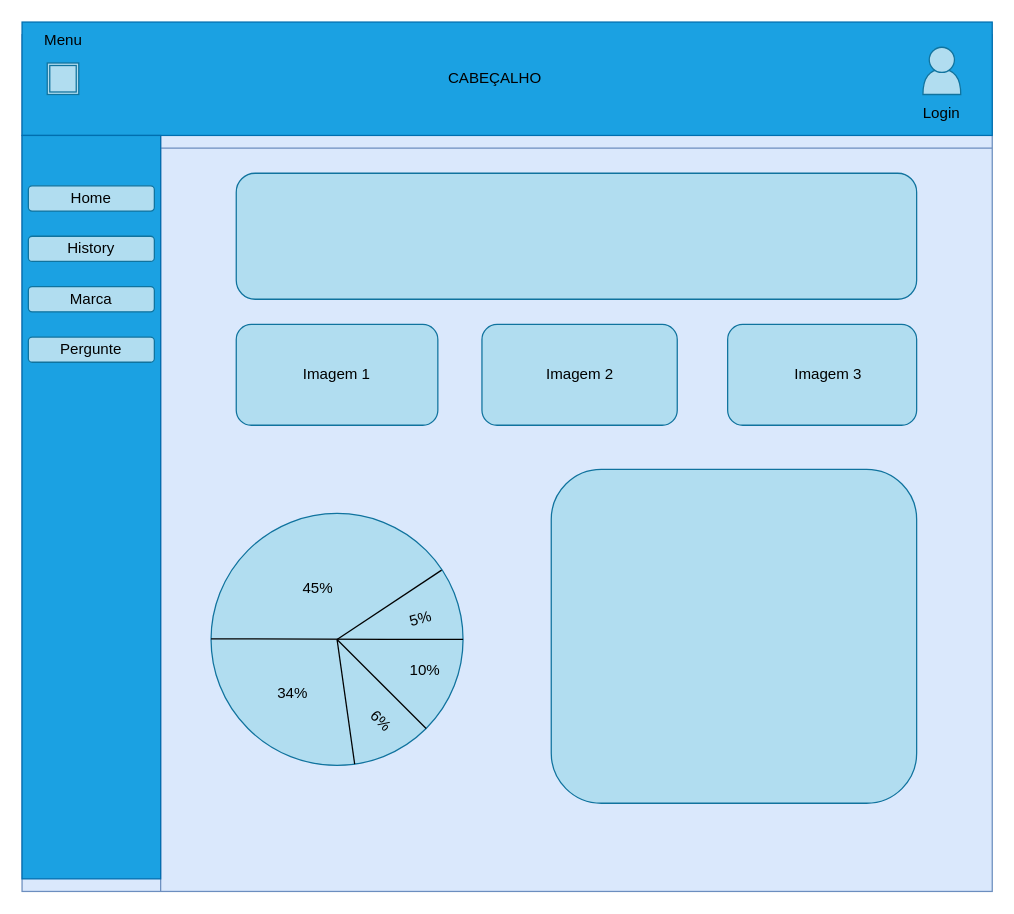
Image size: 1014x914. Some labels were removed from this diagram. The box of each missing label's shape, as (x1, y1, x2, y2) in pixels:
Banner: (235, 172, 917, 299)
Imagem 4: (550, 468, 917, 803)
